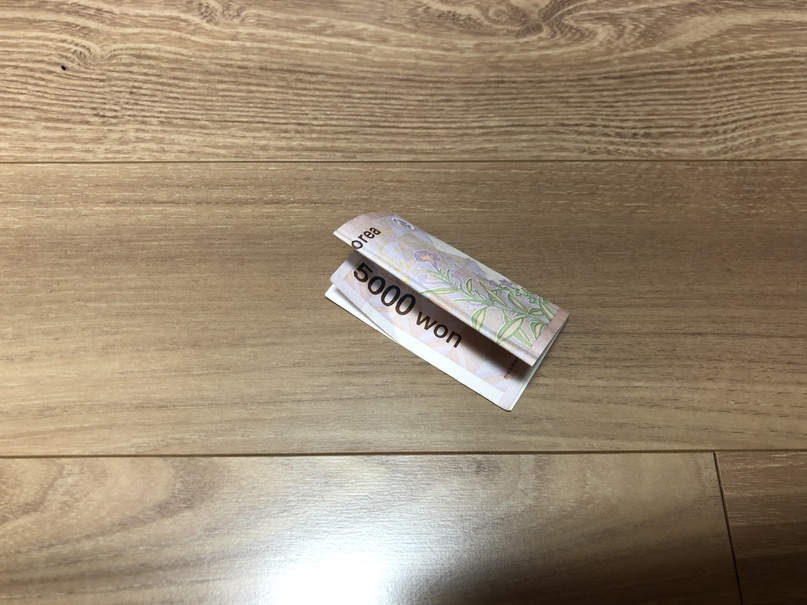5000won: (324, 208, 571, 411)
